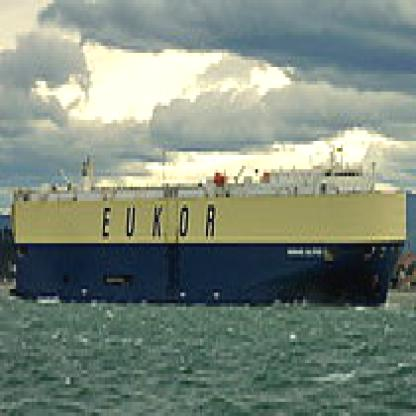Tanker: (7, 186, 404, 306)
